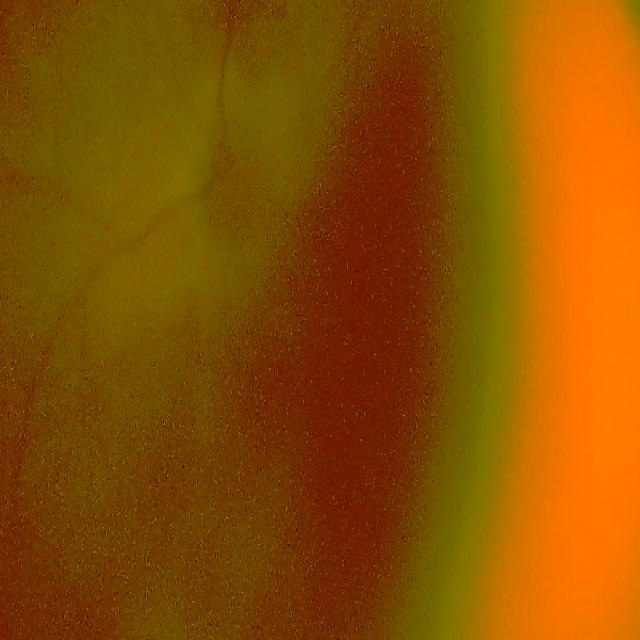optic-nerve: (190, 107, 282, 277)
